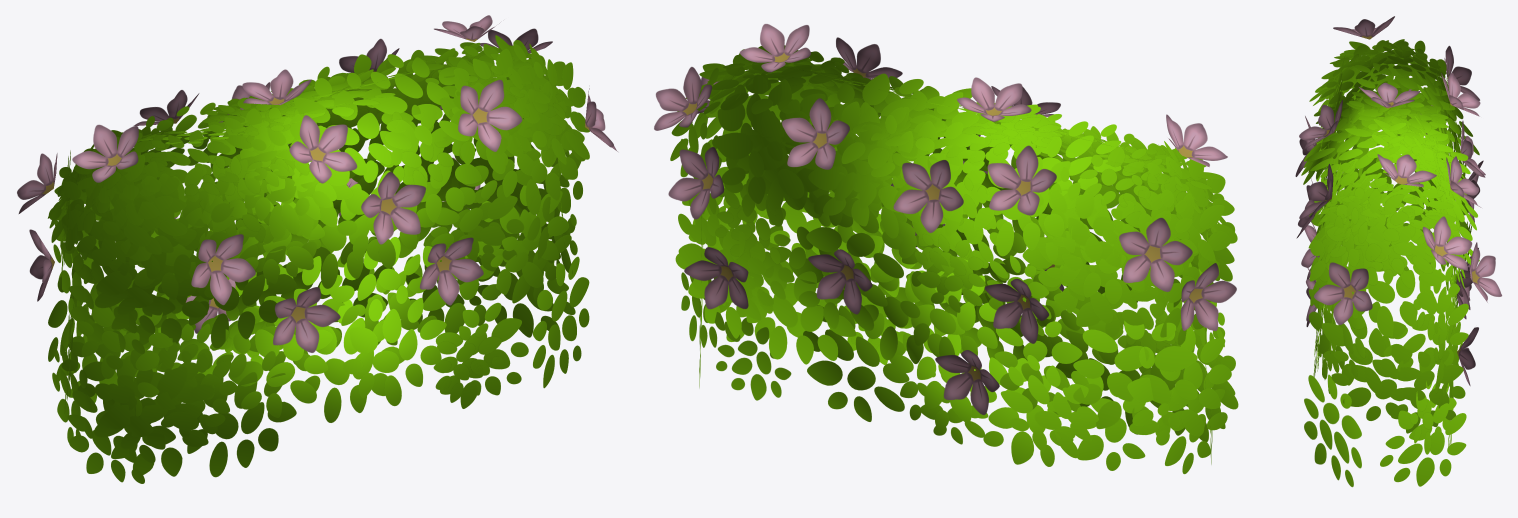
The model's file is flowering-shrub.glb.
3 renders of one model, left to right at view 1: azimuth 30°, elevation 25°; view 2: azimuth 150°, elevation 25°; view 3: azimuth 270°, elevation 25°, orthographic. The views are drawn at different scales.
Parts seen in each view (by area): view 1: Authored structure; view 2: Authored structure; view 3: Authored structure.
Part boxes in pixels (left/top/right/bottom): Authored structure: left=17, top=15, right=617, bottom=483; Authored structure: left=654, top=24, right=1238, bottom=474; Authored structure: left=1295, top=16, right=1501, bottom=487.
Size of the model in its own units: 1.93 by 1.26 by 0.7617.
Materials: 2 (2 with a texture image).
